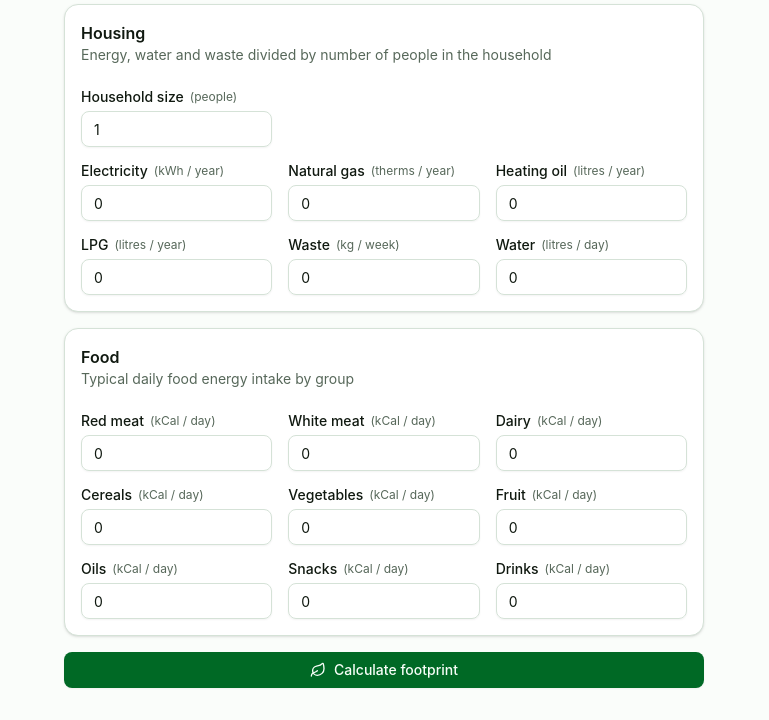
Calculator › shows results after a successful calculation
(page scrolled)
Click the button "Calculate footprint" at {"x": 384, "y": 670}, box [64,652,704,688]
(page scrolled)
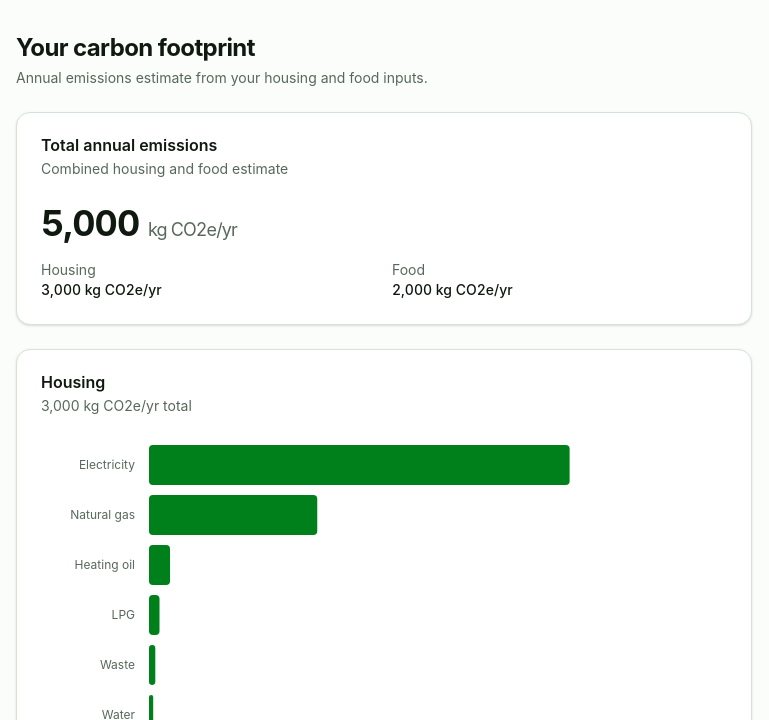
Expected: the heading "Your carbon footprint" is shown, [16,33,255,62]
